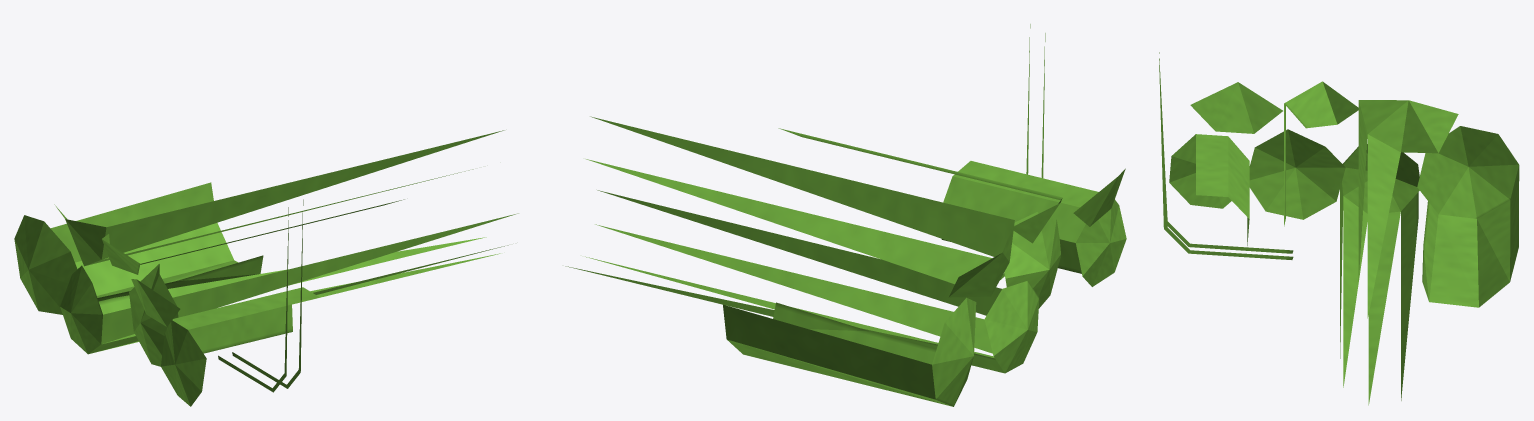
3 renders of one model, left to right at view 1: azimuth 30°, elevation 25°; view 2: azimuth 150°, elevation 25°; view 3: azimuth 270°, elevation 25°, orthographic. The views are drawn at different scales.
Size of the model in its own units: 2.8 by 1.59 by 2.14.
